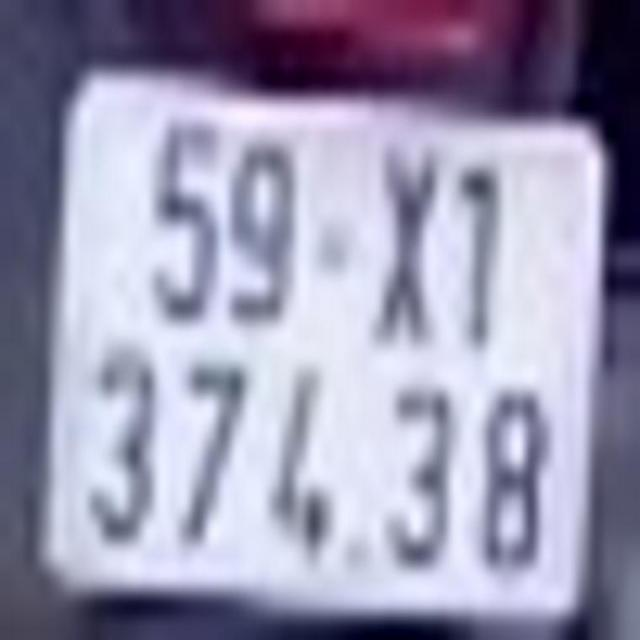1: (453, 165, 500, 354)
3: (384, 381, 452, 574), (90, 347, 156, 544)
4: (270, 364, 341, 572)
5: (152, 117, 219, 322)
7: (177, 362, 245, 548)
8: (483, 385, 548, 570)
9: (225, 144, 292, 330)
X: (371, 142, 437, 350)
